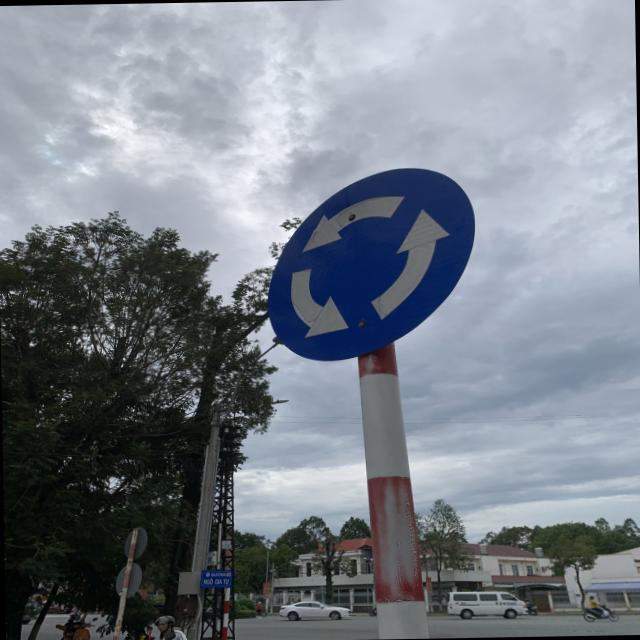Xe_Bus: (262, 163, 472, 364)
